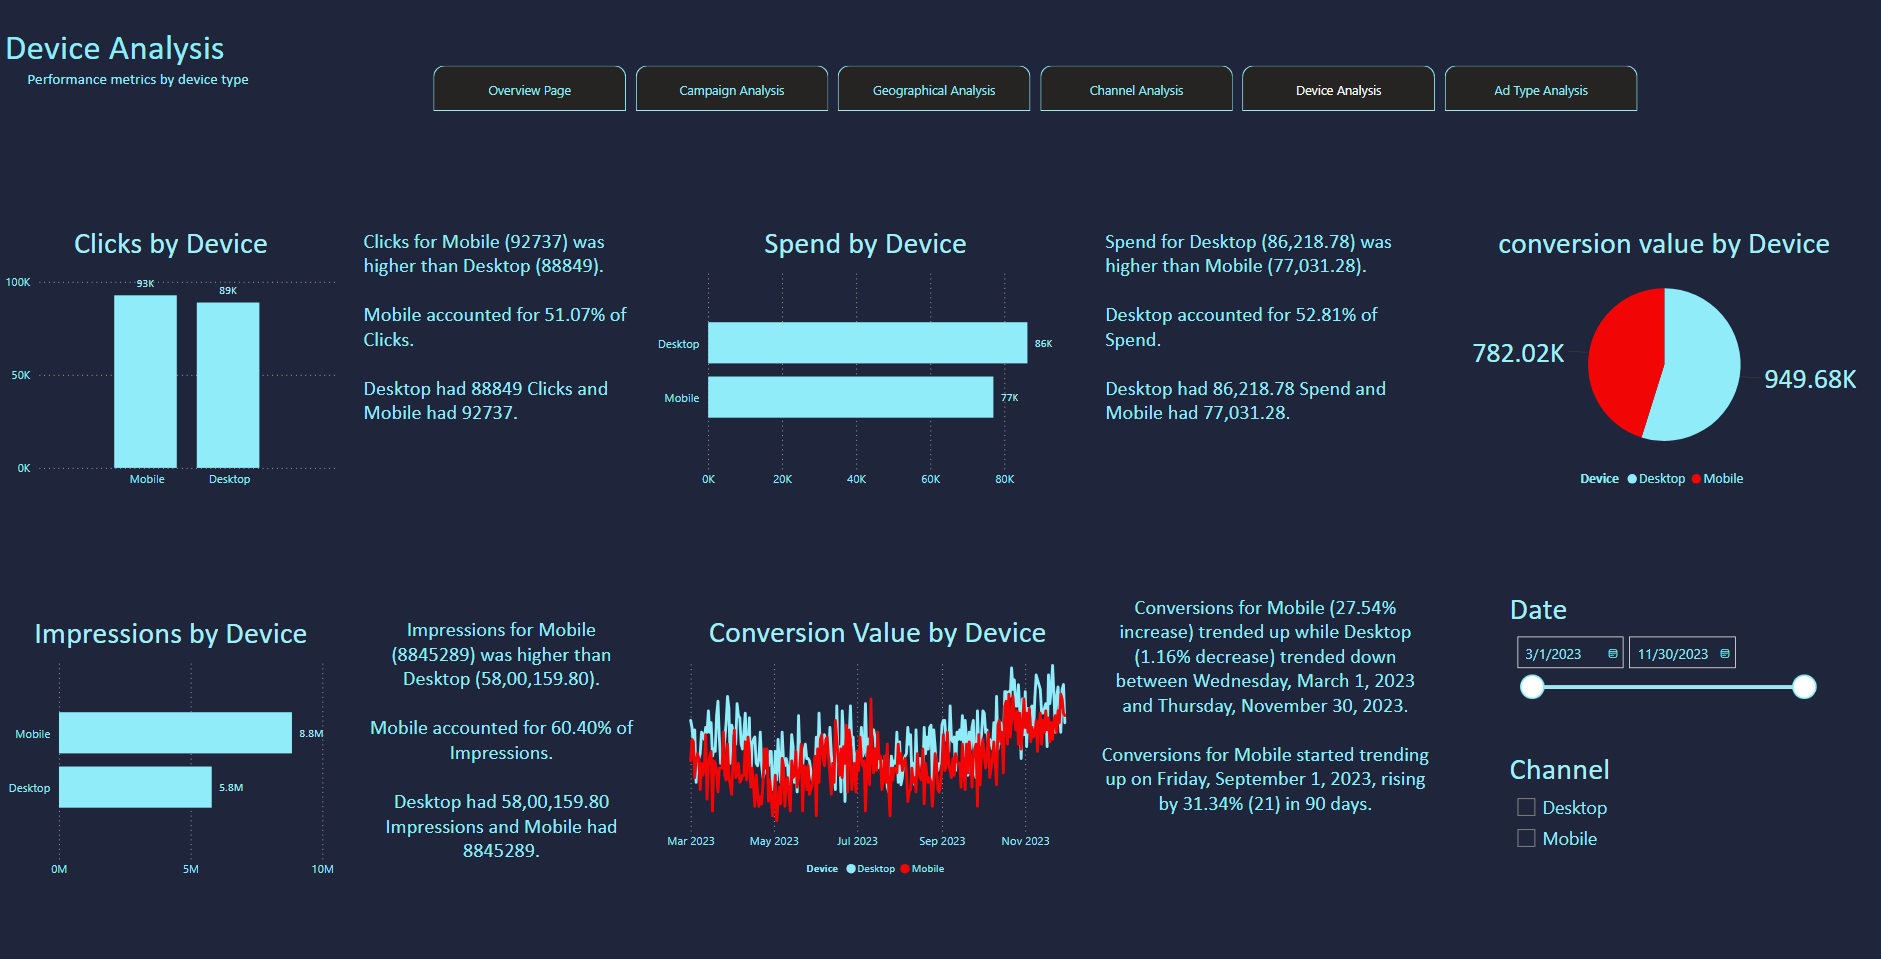

Layout of this report page (visuals, bound fields, positions):
{"tool":"powerbi","page":{"name":"Device Analysis","canvas":[1980,1020],"ordinal":4},"visuals":[{"type":"clusteredBarChart","fields":{"Y":["Sum(data.Impressions)"],"Category":["data.Device"]},"box":[0,648.8,360,288],"z":0},{"type":"clusteredColumnChart","fields":{"Category":["data.Device"],"Y":["Sum(data.Clicks)"]},"box":[0,238.4,360,288],"z":1000},{"type":"textbox","box":[378,238.4,288,288],"z":2000},{"type":"textbox","box":[384,648,288,288],"z":3000},{"type":"clusteredBarChart","fields":{"Y":["Sum(data.Spend, GBP)"],"Category":["data.Device"]},"box":[684,238.4,456,288],"z":4000},{"type":"lineChart","title":"Conversion Value by Device","fields":{"Y":["Sum(data.Conversions)"],"Category":["data.Date.Variation.Date Hierarchy.Year","data.Date.Variation.Date Hierarchy.Quarter","data.Date.Variation.Date Hierarchy.Month","data.Date.Variation.Date Hierarchy.Day"],"Series":["data.Device"]},"box":[696,648,456,288],"z":5000},{"type":"textbox","box":[1158,238.4,360,288],"z":6000},{"type":"textbox","box":[1152,624,360,288],"z":7000},{"type":"pieChart","fields":{"Y":["Sum(data.Total conversion value, GBP)"],"Category":["data.Device"]},"box":[1536,238.4,432,288],"z":8000},{"type":"slicer","title":"Date","fields":{"Values":["data.Date"]},"box":[1584,624,336,120],"z":9000},{"type":"slicer","title":"Channel","fields":{"Values":["data.Device"]},"box":[1584,792,336,120],"z":10000},{"type":"textbox","box":[0,24,360,72],"z":11000},{"type":"textbox","box":[24,72,264,48],"z":12000},{"type":"pageNavigator","box":[456,72,1272,48],"z":13000}]}

Visuals, with their boxes in screenshot pixels (x1, y1, x2, y2), scaled from the page's 1980x1020 canvas onto the 1881x959 screenshot:
clusteredBarChart - Sum(data.Impressions) x data.Device: 0 610 342 881
clusteredColumnChart - data.Device x Sum(data.Clicks): 0 224 342 495
textbox: 359 224 633 495
textbox: 365 609 638 880
clusteredBarChart - Sum(data.Spend, GBP) x data.Device: 650 224 1083 495
"Conversion Value by Device" lineChart: 661 609 1094 880
textbox: 1100 224 1442 495
textbox: 1094 587 1436 857
pieChart - Sum(data.Total conversion value, GBP) x data.Device: 1459 224 1870 495
"Date" slicer: 1505 587 1824 700
"Channel" slicer: 1505 745 1824 857
textbox: 0 23 342 90
textbox: 23 68 274 113
pageNavigator: 433 68 1642 113
